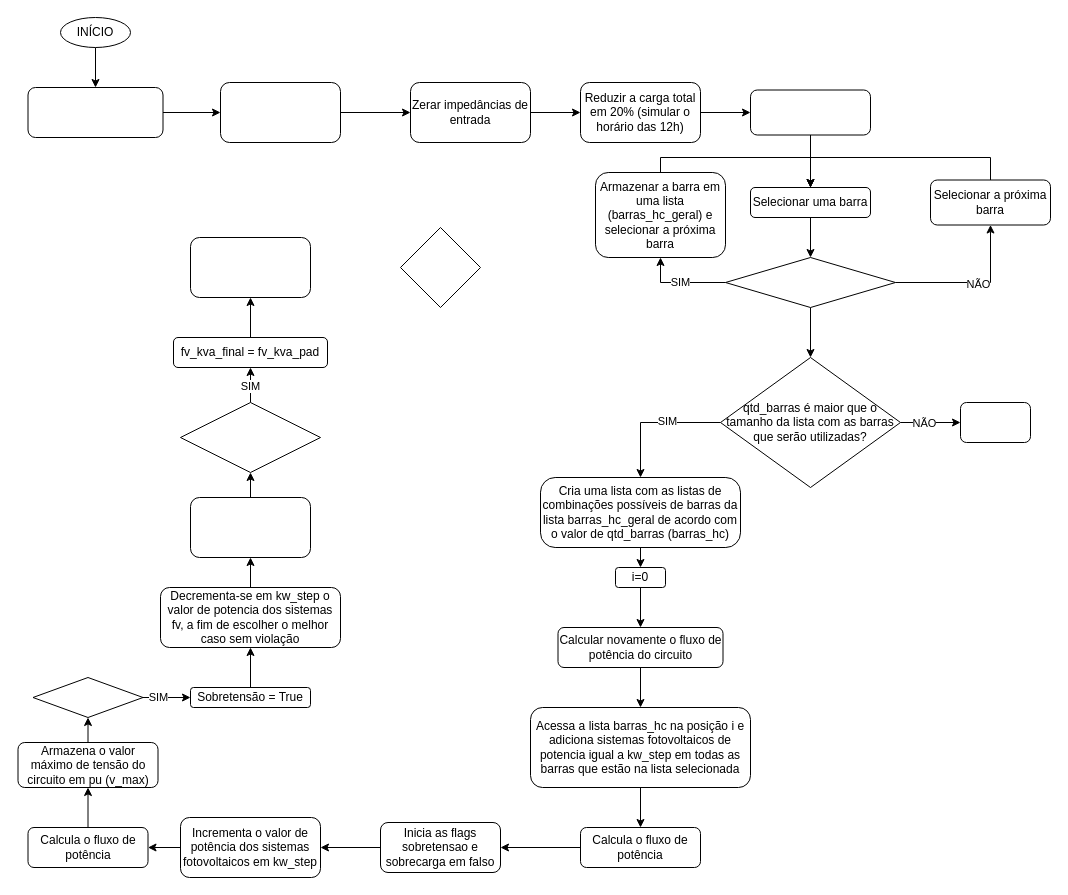
Image size: 1068x895. Some labels were removed from this diagram. The shapes that lost their labels are listed below. From the top down, each one's centre as x and y in pixels, then its label:
At [95,112]: "flag = 1 qtd_barras =0 kw_step = 10".
At [280,112]: "Compilar arquivo com o alimentador".
At [810,112]: "Calcular o fluxo de potência".
At [250,267]: "Armazena-se todos os dados do sistema (potência, perdas, tensão...)".
At [810,282]: "Barra trifásica e com carga?".
At [250,437]: "fv_kva_pad > fv_kva_final".
At [995,422]: "flag = 0".
At [250,527]: "fv_kva_pad = soma de potência em kva dos sistemas fv".
At [87,697]: "v_max > 1,05".
